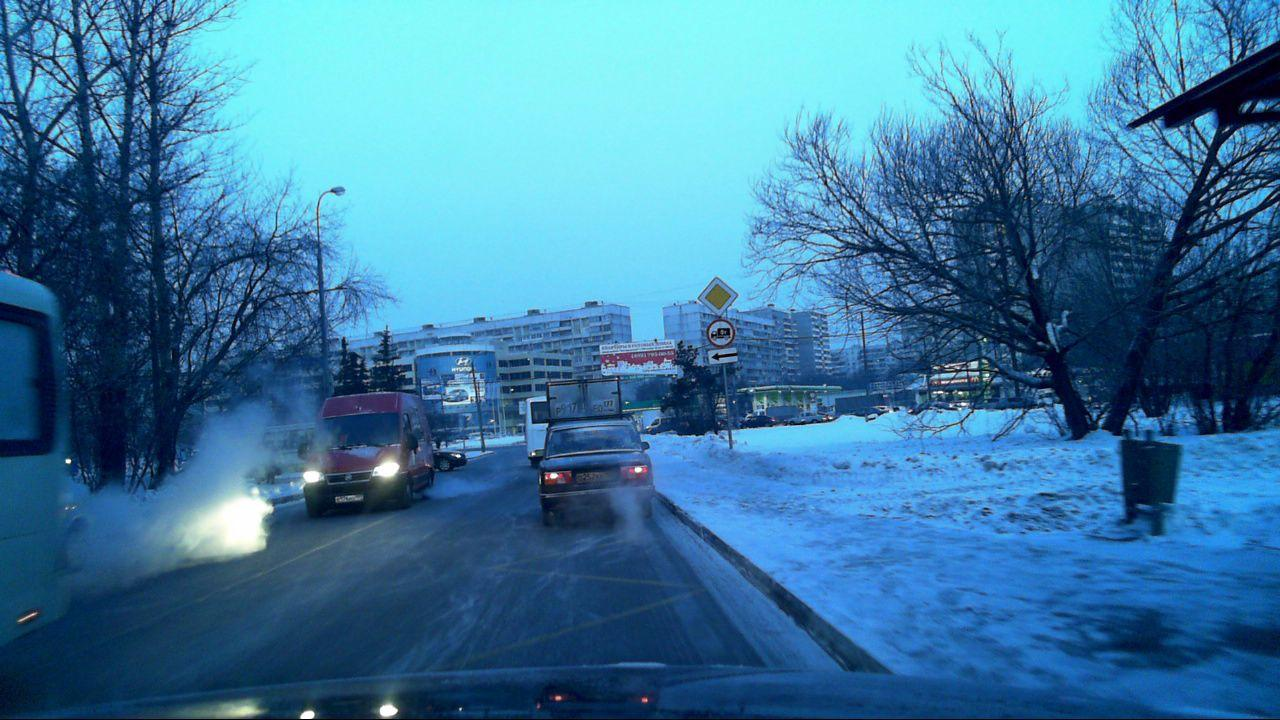2_1: (695, 276, 739, 317)
3_4: (706, 319, 734, 346)
8_3_2: (706, 348, 738, 365)
